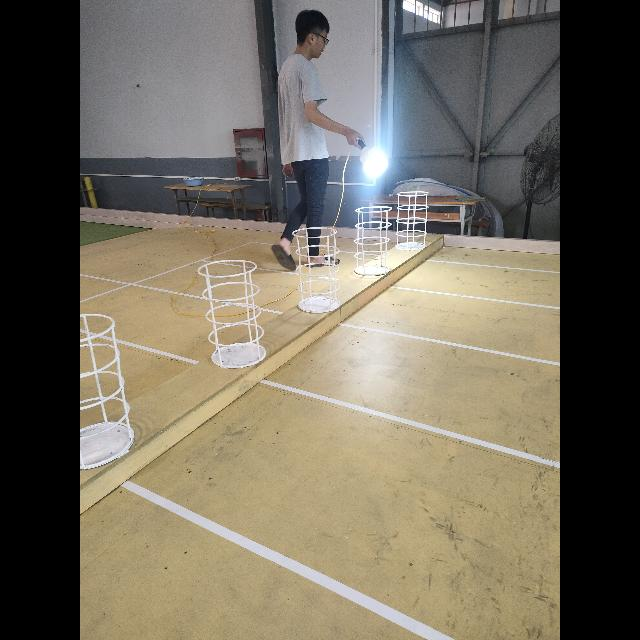S: (80, 313, 136, 472), (198, 259, 266, 369), (291, 226, 341, 314), (354, 205, 392, 278), (395, 191, 429, 251)
